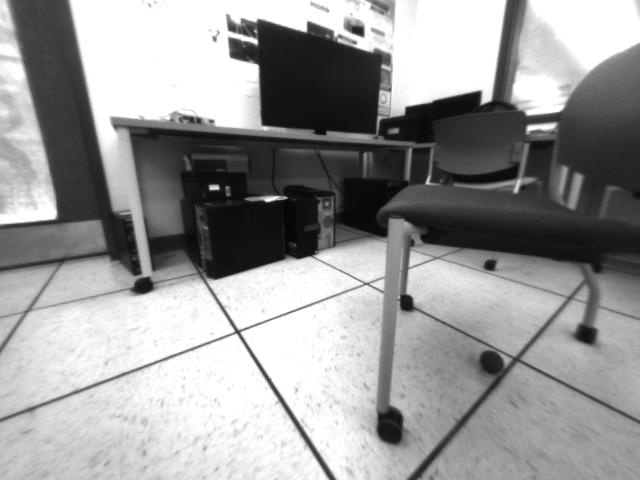dogtoy: (474, 342, 505, 381)
